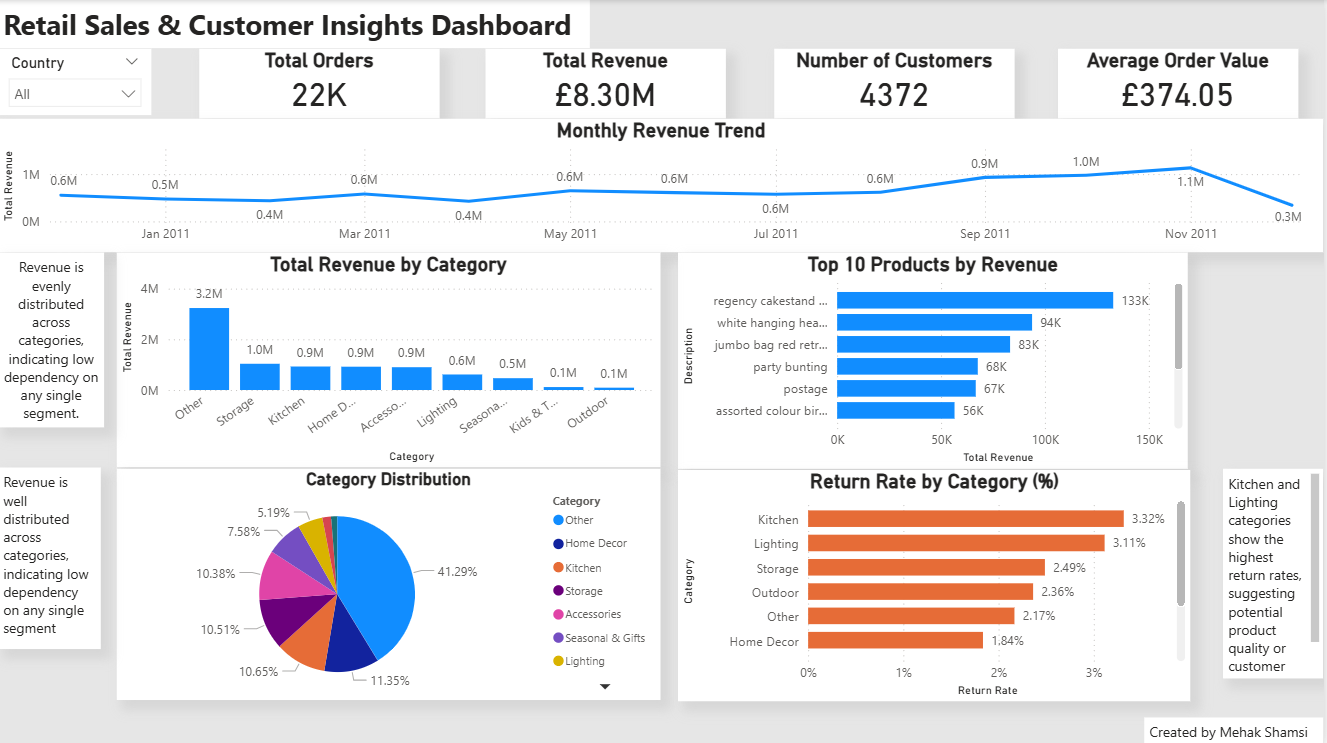

The page's visual inventory and layout, read from the dashboard file:
{"tool":"powerbi","page":{"name":"Page 1","canvas":[1280,720],"ordinal":0},"visuals":[{"type":"card","title":"Total Revenue","fields":{"Values":["Sum(clean_retail_with_category.Revenue)"]},"box":[470.5,47.1,231.6,67.6],"z":0},{"type":"card","title":"Total Orders","fields":{"Values":["clean_retail_with_category.Total Orders"]},"box":[193.6,47.1,231.6,67.6],"z":1000},{"type":"card","title":"Number of Customers","fields":{"Values":["clean_retail_with_category.Total Customers"]},"box":[749.2,47.1,231.6,67.6],"z":2000},{"type":"card","title":"Average Order Value","fields":{"Values":["clean_retail_with_category.Avg Order Value"]},"box":[1023.1,47.1,231.6,67.6],"z":3000},{"type":"lineChart","title":"Monthly Revenue Trend","fields":{"Y":["clean_retail_with_category.Total Revenue"],"Category":["clean_retail_with_category.InvoiceDate.Variation.Date Hierarchy.Year","clean_retail_with_category.InvoiceDate.Variation.Date Hierarchy.Month"]},"box":[0,114.6,1280,129.1],"z":4000},{"type":"barChart","title":"Top 10 Products by Revenue ","fields":{"Category":["clean_retail_with_category.Description"],"Y":["clean_retail_with_category.Total Revenue"]},"box":[656.3,243.7,492.2,208.7],"z":5000},{"type":"columnChart","fields":{"Category":["clean_retail_with_category.Category"],"Y":["clean_retail_with_category.Total Revenue"]},"box":[114.6,243.7,524.8,207.5],"z":6000},{"type":"pieChart","title":"Category Distribution","fields":{"Category":["clean_retail_with_category.Category"],"Y":["CountNonNull(clean_retail_with_category.Category)"]},"box":[114.6,452.4,524.8,223.2],"z":7000},{"type":"barChart","title":"Return Rate by Category (%)","fields":{"Category":["clean_retail_with_category.Category"],"Y":["clean_retail_with_category.Return Rate"]},"box":[656.3,453.6,494.6,223.2],"z":8000},{"type":"slicer","fields":{"Values":["clean_retail_with_category.Country"]},"box":[0,47.1,148.4,63.9],"z":9000},{"type":"textbox","box":[0,243.7,102.5,168.9],"z":11000},{"type":"textbox","box":[1182.3,452.4,97.7,202.7],"z":12000},{"type":"textbox","box":[0,451.2,98.9,174.9],"z":13000},{"type":"textbox","box":[0,0,570.8,46.7],"z":13001},{"type":"textbox","box":[1106.3,692.5,173.7,27.7],"z":13002}]}

Visuals, with their boxes in screenshot pixels (x1, y1, x2, y2), scaled from the page's 1280x720 canvas onto the 1327x743 screenshot:
"Total Revenue" card: 488 49 728 118
"Total Orders" card: 201 49 441 118
"Number of Customers" card: 777 49 1017 118
"Average Order Value" card: 1061 49 1301 118
"Monthly Revenue Trend" lineChart: 0 118 1326 251
"Top 10 Products by Revenue " barChart: 680 251 1191 467
columnChart - clean_retail_with_category.Category x clean_retail_with_category.Total Revenue: 119 251 663 466
"Category Distribution" pieChart: 119 467 663 697
"Return Rate by Category (%)" barChart: 680 468 1193 698
slicer - clean_retail_with_category.Country: 0 49 154 115
textbox: 0 251 106 426
textbox: 1226 467 1326 676
textbox: 0 466 103 646
textbox: 0 0 592 48
textbox: 1147 715 1326 742
